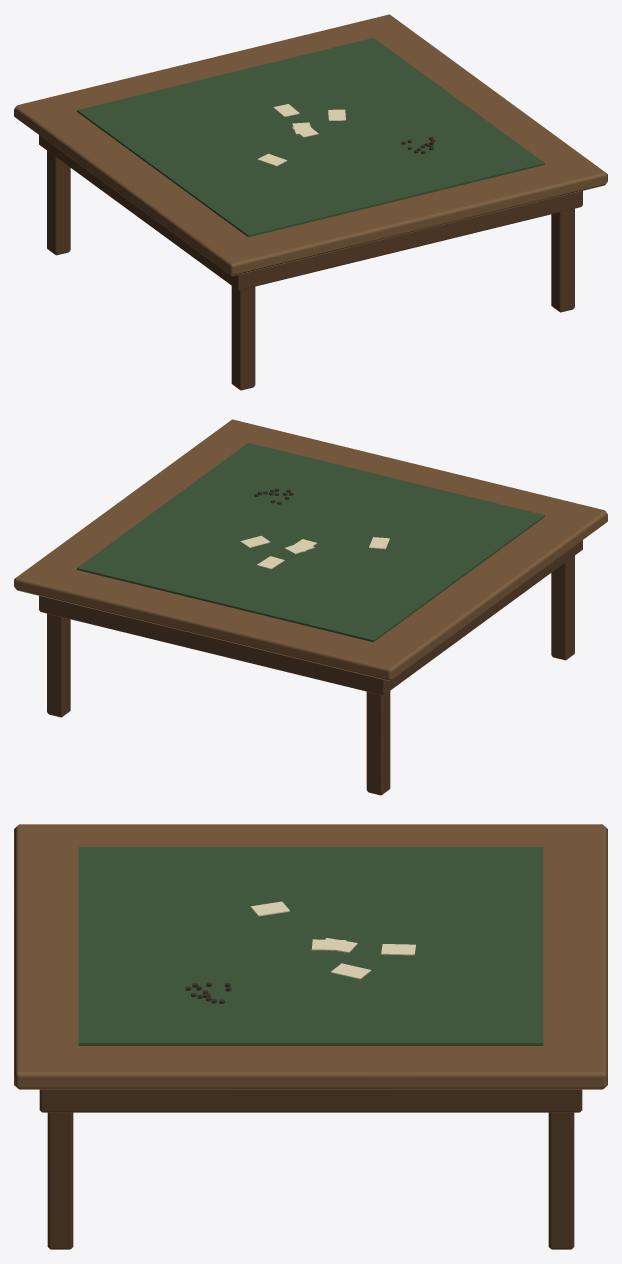
Rendered from CardTable.glb.
The picture shows the model from 3 angles, top to bottom: view 1: azimuth 30°, elevation 25°; view 2: azimuth 150°, elevation 25°; view 3: azimuth 270°, elevation 25°; orthographic projection. The views are drawn at different scales.
Visible parts, largest first — view 1: CardTable.001; view 2: CardTable.001; view 3: CardTable.001.
Part boxes in pixels (x1=…): CardTable.001: x1=14, y1=14, x2=607, y2=390; CardTable.001: x1=14, y1=419, x2=607, y2=795; CardTable.001: x1=14, y1=824, x2=607, y2=1249.
Size of the model in its own units: 2.3 by 0.841 by 2.3.
